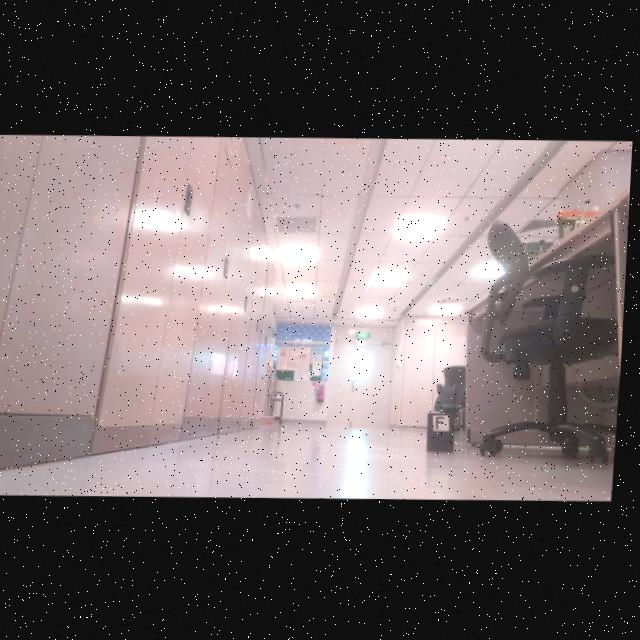F: (441, 417, 449, 430)
